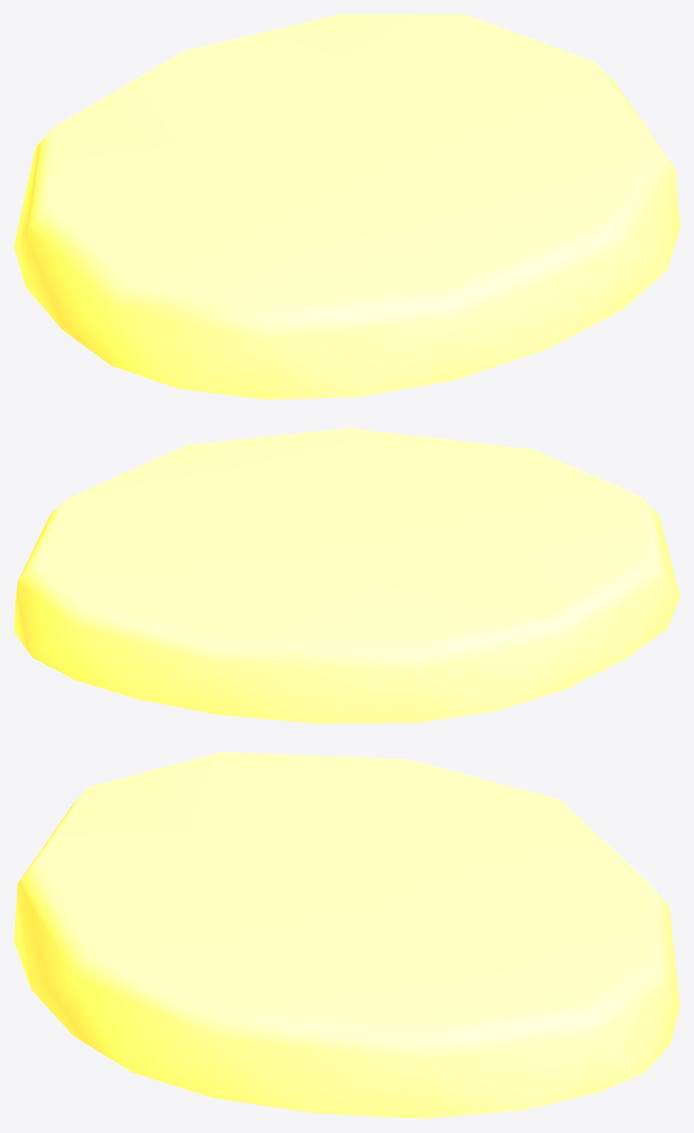
The model's file is Candle_white_5.fbx.
The picture shows the model from 3 angles, top to bottom: view 1: azimuth 30°, elevation 25°; view 2: azimuth 150°, elevation 25°; view 3: azimuth 270°, elevation 25°; orthographic projection. The views are drawn at different scales.
Parts seen in each view (by area): view 1: Candle_white_5_LOD0; view 2: Candle_white_5_LOD0; view 3: Candle_white_5_LOD0.
Boxes of the visible parts, bbox=[...] form: Candle_white_5_LOD0: bbox=[14, 14, 679, 399]; Candle_white_5_LOD0: bbox=[14, 428, 679, 723]; Candle_white_5_LOD0: bbox=[14, 752, 679, 1118].
Size of what is drawn, in the model's own units: 0.1115 by 0.0146 by 0.106.
